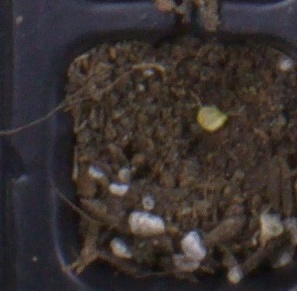chilli seed: (196, 106, 228, 132)
